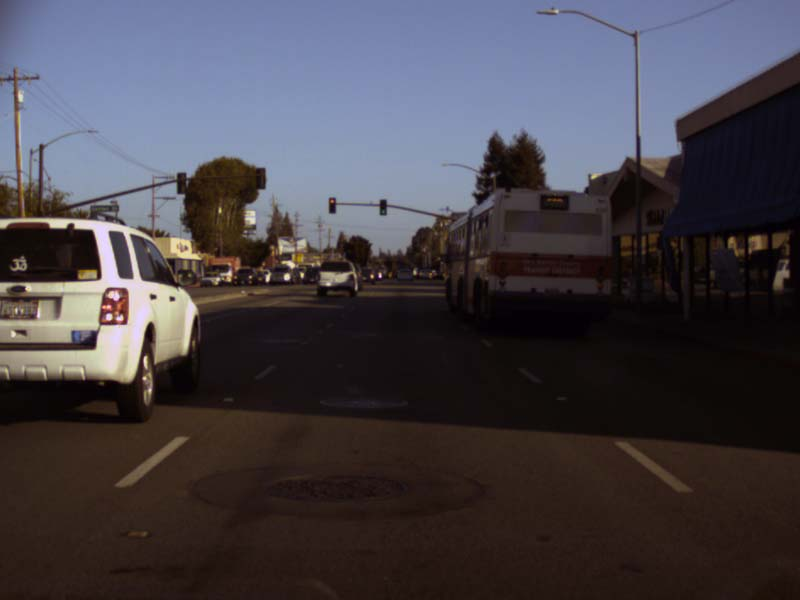Green: (379, 199, 386, 216)
Red: (328, 197, 335, 213)
